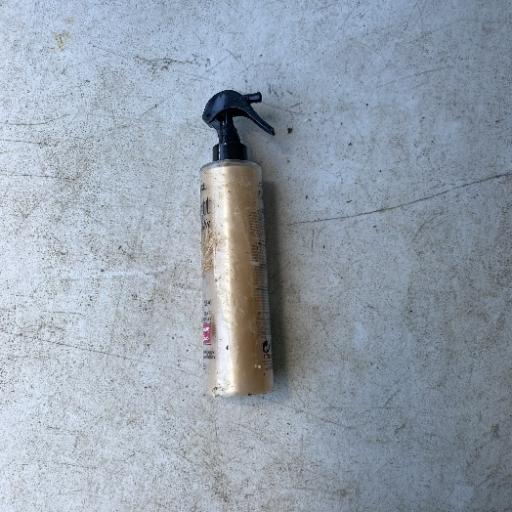Metal: (196, 87, 278, 399)
